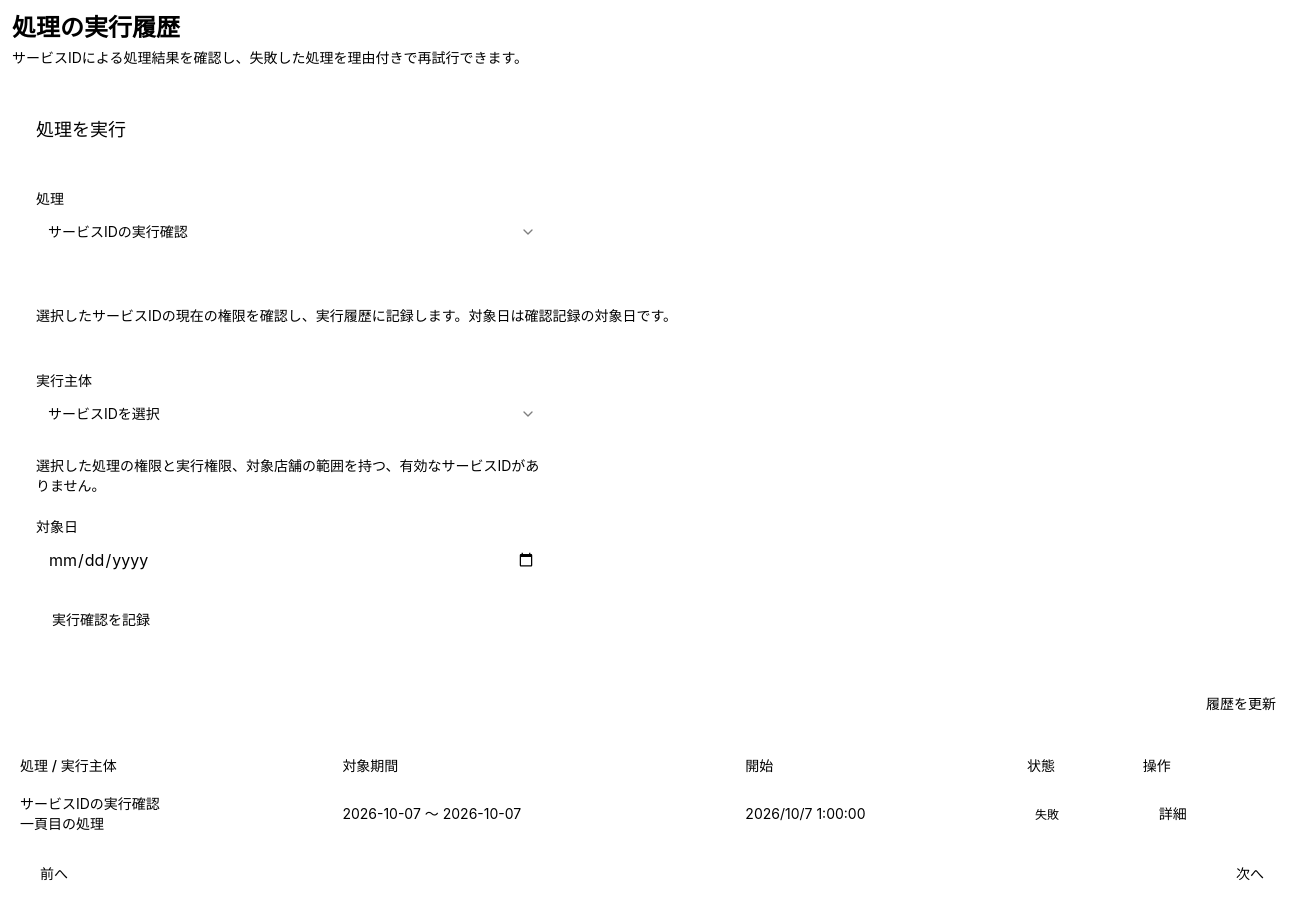
Test: 実行履歴はページ番号で送り、次のページを取り直す
Expected: the text "一頁目の処理" is shown, top-left (20, 815), bottom-right (104, 832)
Click the button "次へ": (1250, 874) top-left (1224, 858), bottom-right (1276, 890)
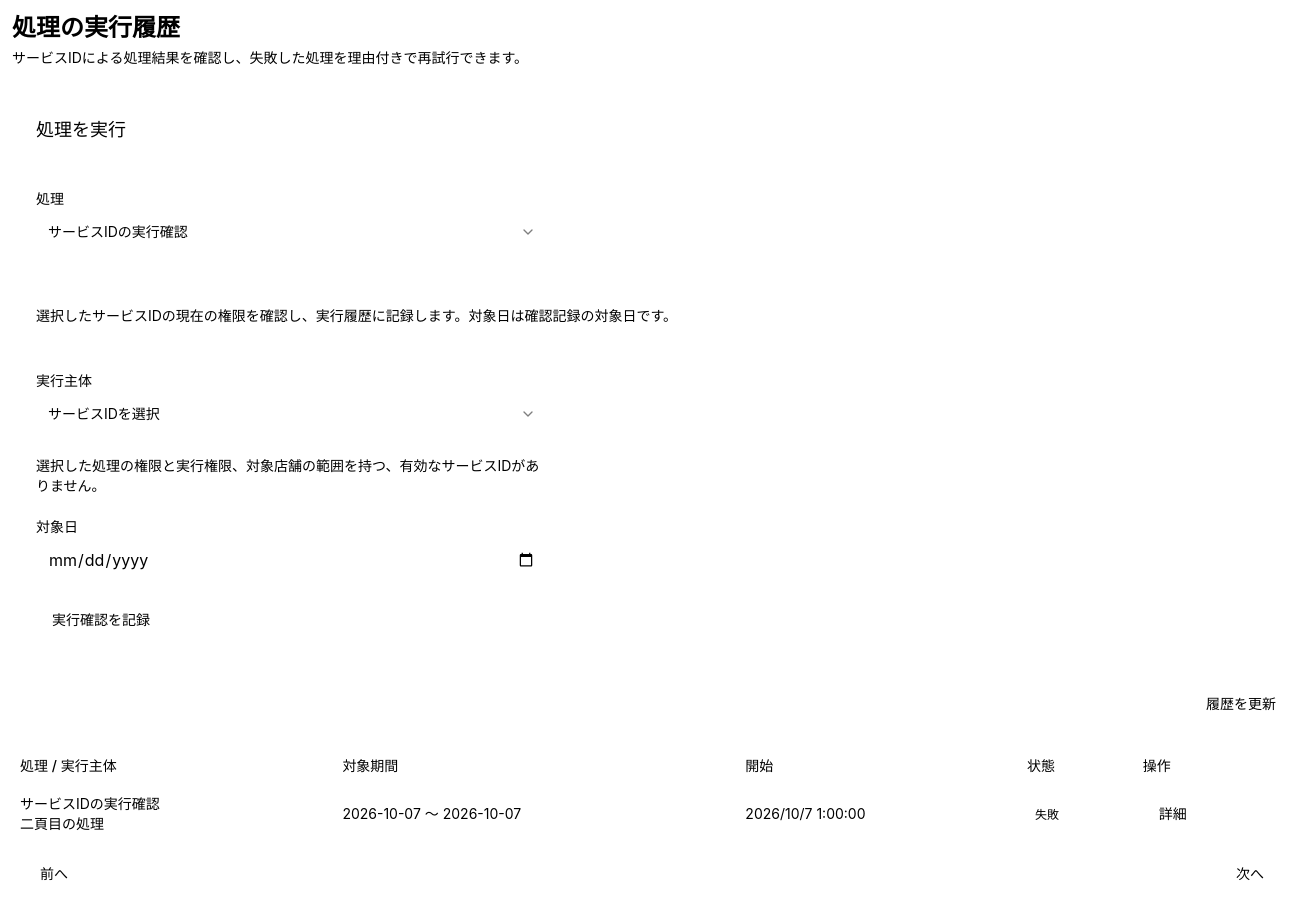
Result: the text "二頁目の処理" is shown at top-left (20, 815), bottom-right (104, 832)
